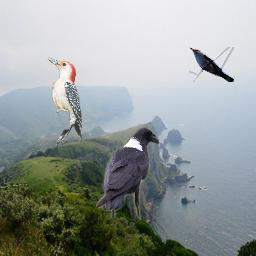Crow: (96, 127, 159, 218)
Cuckoo: (189, 47, 234, 82)
Woodpecker: (46, 57, 82, 148)
